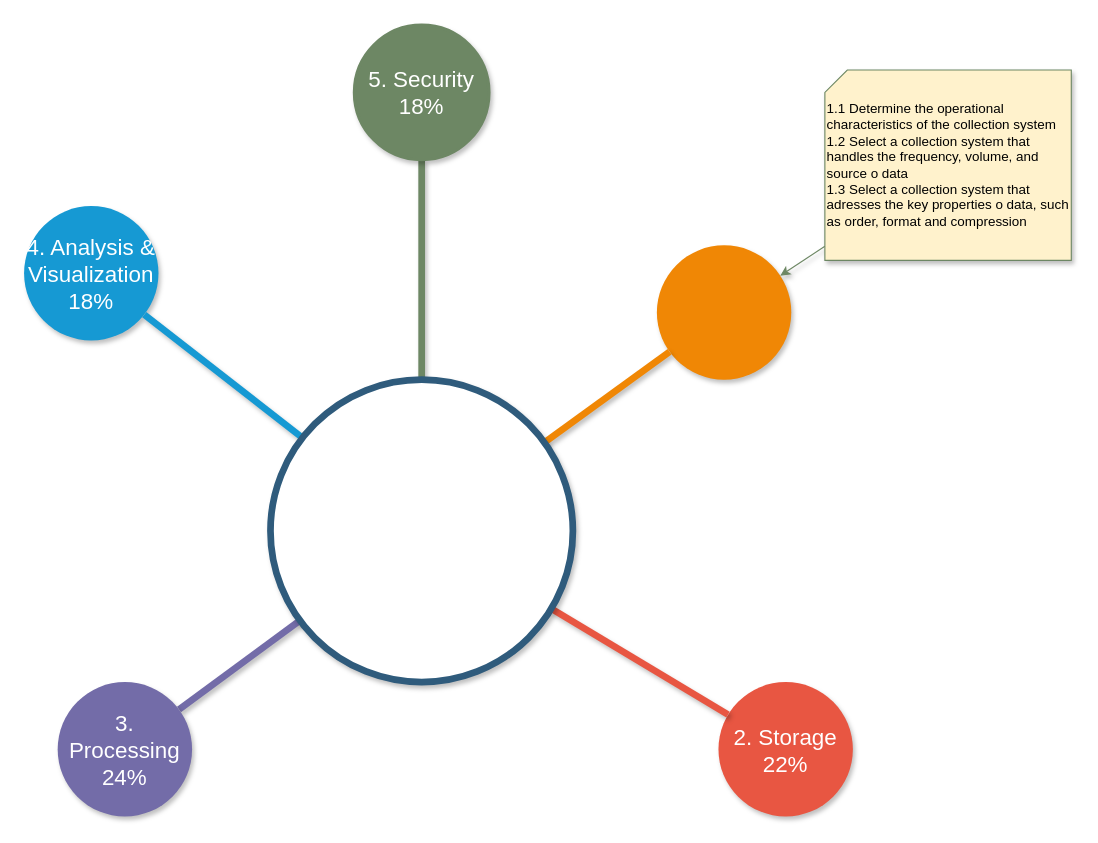
The diagram is 1098 pixels wide and 843 high, and some of its shapes have lost their labels. Here are the shapes that lost their labels. From the top down, the centre of each, then its label:
the point at 724,313: 1. Collection 18%
the point at 422,532: AWS Data & Analytics Specialty Certified
